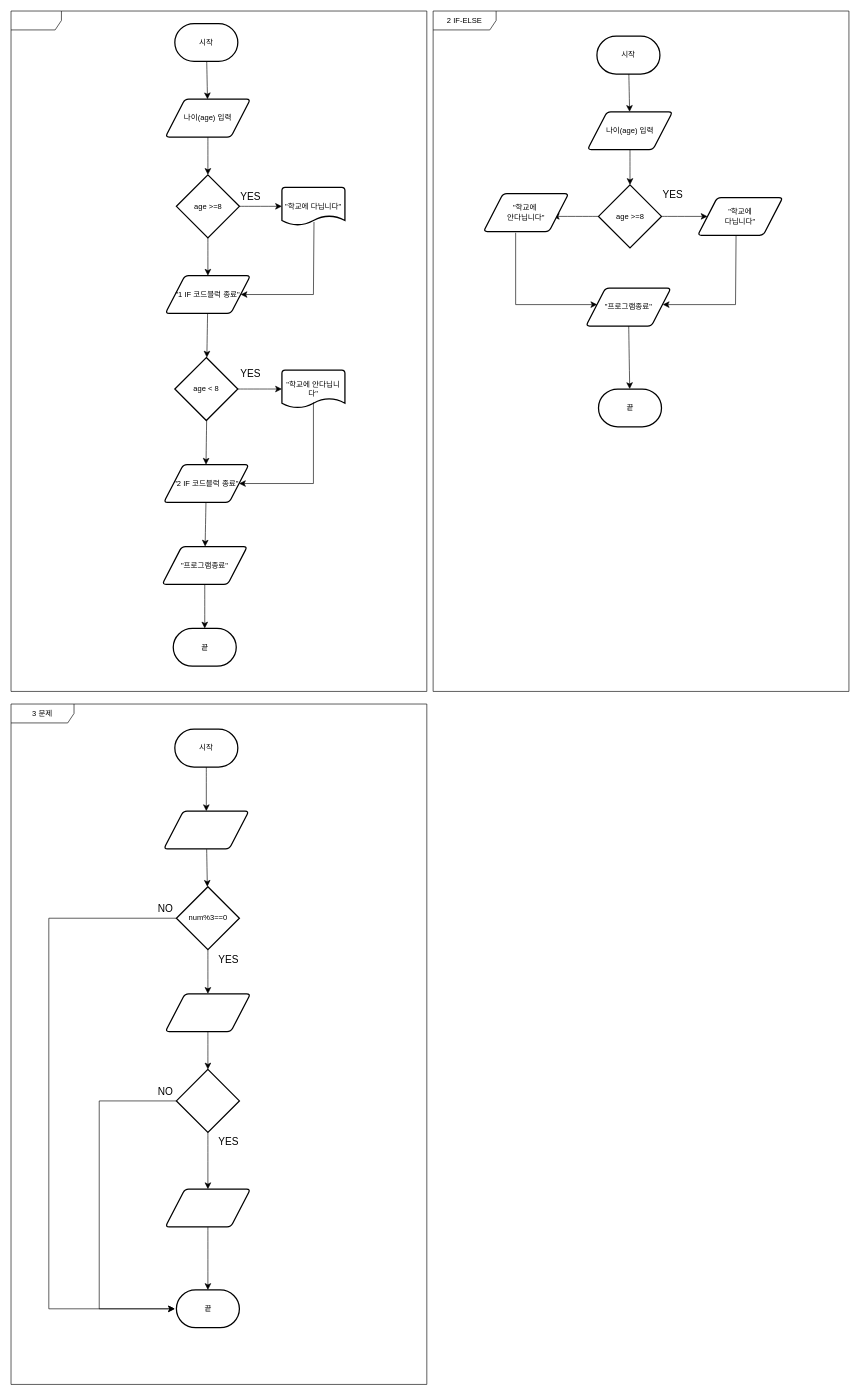
Image size: 860x1395. Some labels were removed from this diagram. The centre of each missing label's shape, as x and y in pixels:
"3의 배수입니다": [207,1012]
"5의 배수입니다": [207,1207]
1 IF: [218,350]
num 입력: [206,829]
num%5==0: [207,1100]
